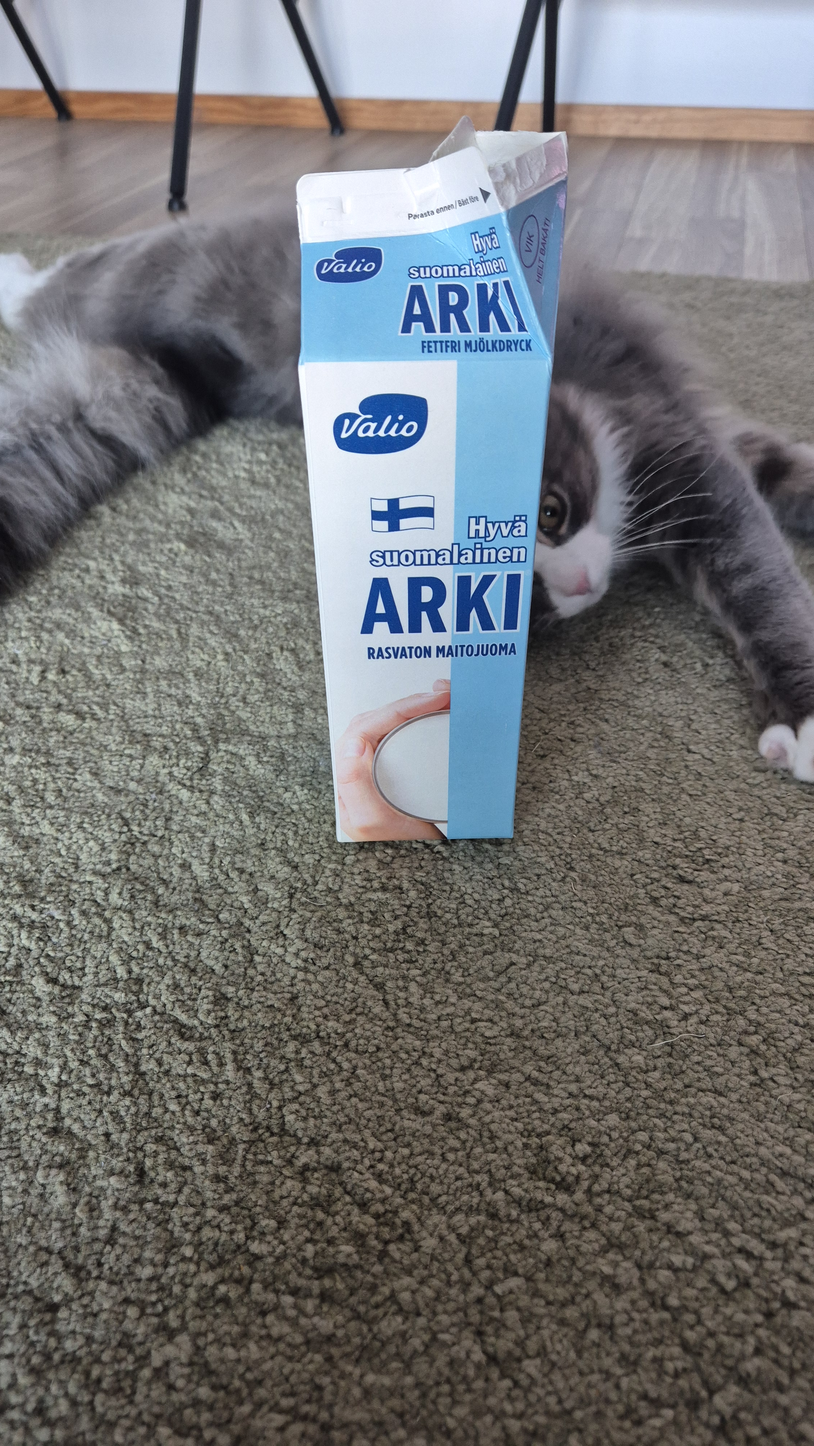Dryckeskartong: (296, 117, 569, 842)
